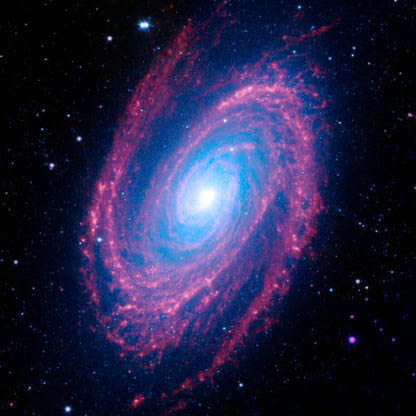Messier 81: (75, 7, 348, 398)
